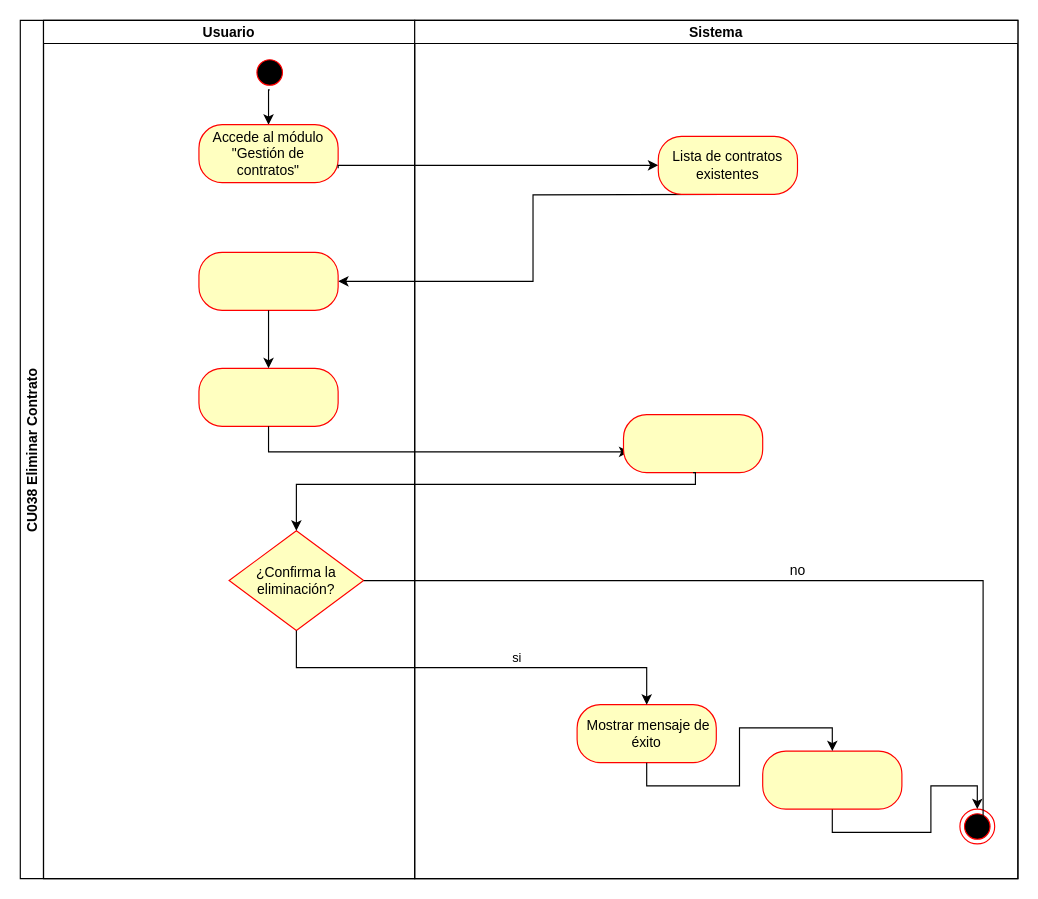
Some shapes in this 1038 by 899 pixel diagram are drawn without their labels. The centre of each missing label's shape, as x and y in pixels:
Confirmación para la eliminación: point (692, 443)
Elimina el contrato de la lista: point (832, 779)
Pulsar botón "Eliminar contrato": point (268, 396)
Selecciona el contrato que desea eliminar: point (268, 280)
